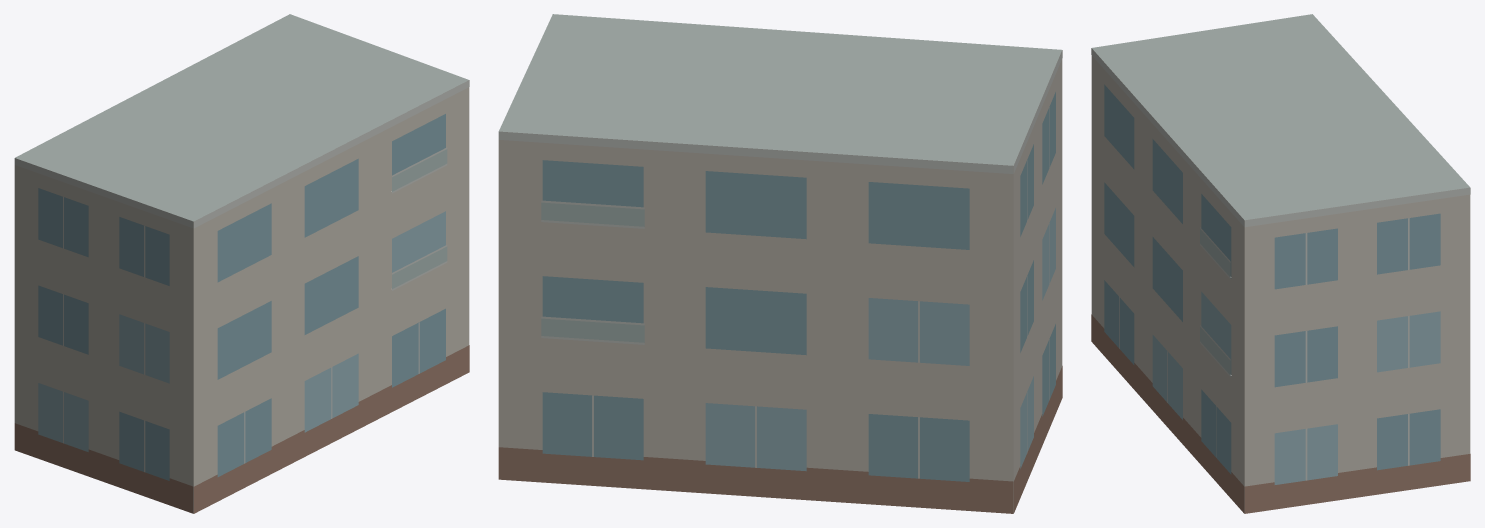
Rendered from survey-upis-32639176.glb.
The picture shows the model from 3 angles, left to right: view 1: azimuth 30°, elevation 25°; view 2: azimuth 150°, elevation 25°; view 3: azimuth 270°, elevation 25°; orthographic projection. The views are drawn at different scales.
Visible parts, largest first — view 1: survey-upis-32639176.tmp; view 2: survey-upis-32639176.tmp; view 3: survey-upis-32639176.tmp.
Boxes of the visible parts, left/top/right/bottom form: survey-upis-32639176.tmp: left=14, top=14, right=469, bottom=513; survey-upis-32639176.tmp: left=498, top=14, right=1062, bottom=513; survey-upis-32639176.tmp: left=1091, top=14, right=1470, bottom=513.
Size of the model in its own units: 15.38 by 10.2 by 11.94.
